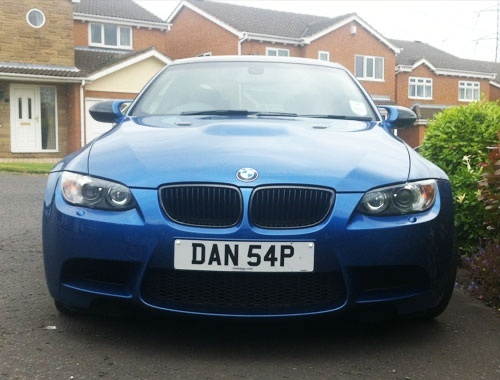plaka: (170, 236, 316, 274)
